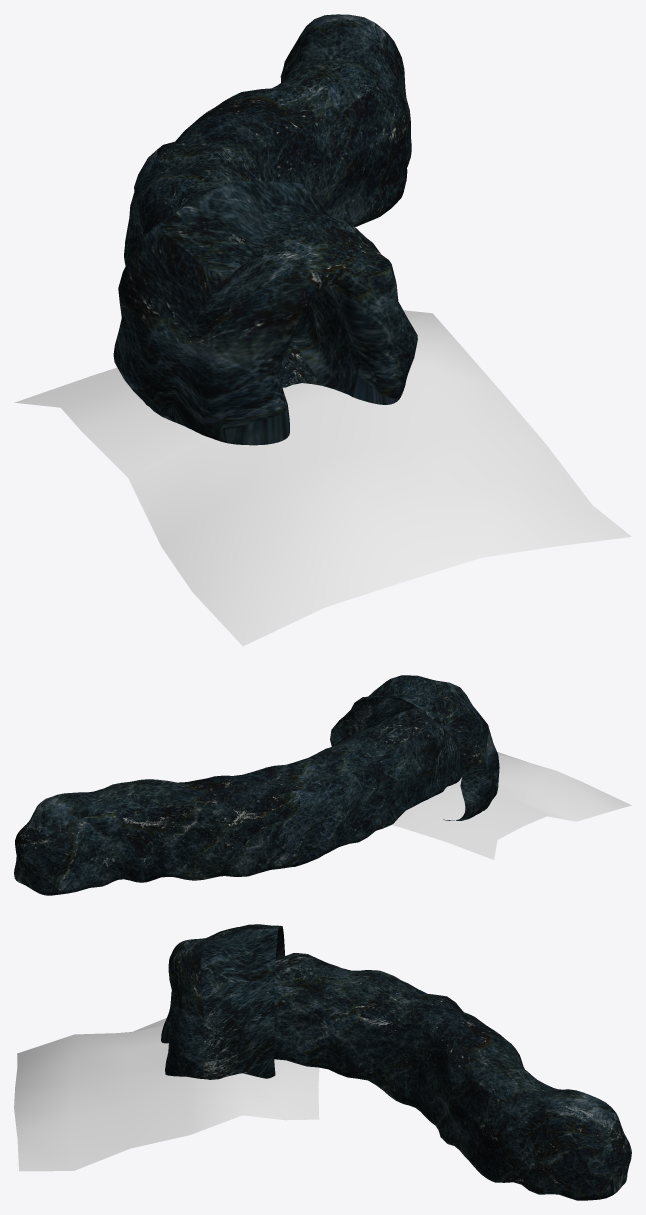
File: lamina_cave_2.glb
The picture shows the model from 3 angles, top to bottom: view 1: azimuth 30°, elevation 25°; view 2: azimuth 150°, elevation 25°; view 3: azimuth 270°, elevation 25°; orthographic projection. The views are drawn at different scales.
Parts seen in each view (by area): view 1: LaminaCave2, Grass; view 2: LaminaCave2, Grass; view 3: LaminaCave2, Grass.
Part boxes in pixels (x1,y1,x2,y2): LaminaCave2: (113,14,417,445); Grass: (14,310,631,646); LaminaCave2: (14,675,499,895); Grass: (391,752,631,859); LaminaCave2: (161,924,631,1200); Grass: (14,1018,319,1171).
Bounding box in the file's own units: 17.03 × 7.61 × 23.32.
1 material, 1 textured.
